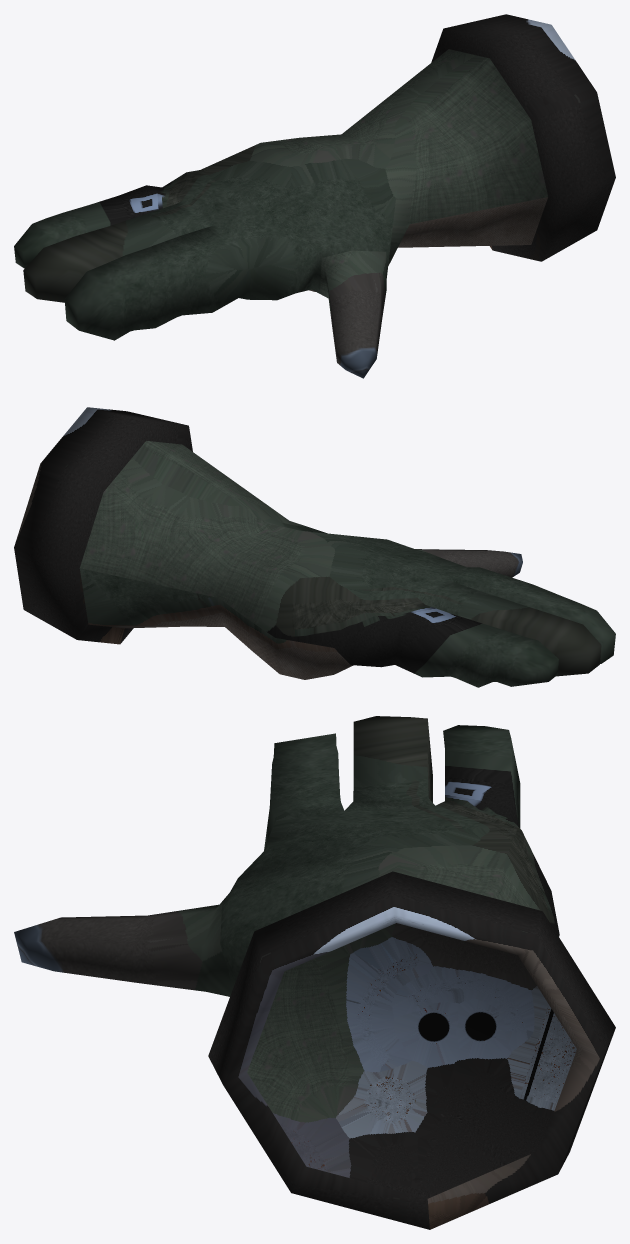
File: hand_gib.fbx
3 views of the same model, one above another, from view 1: azimuth 30°, elevation 25°; view 2: azimuth 150°, elevation 25°; view 3: azimuth 270°, elevation 25° (orthographic). The views are drawn at different scales.
Visible parts, largest first — view 1: Hand; view 2: Hand; view 3: Hand.
Part boxes in pixels (x1,y1,x2,y2): Hand: [14, 14, 615, 378]; Hand: [14, 407, 615, 687]; Hand: [14, 716, 615, 1229].
Size of the model in its own units: 63.99 by 25.56 by 42.06.
